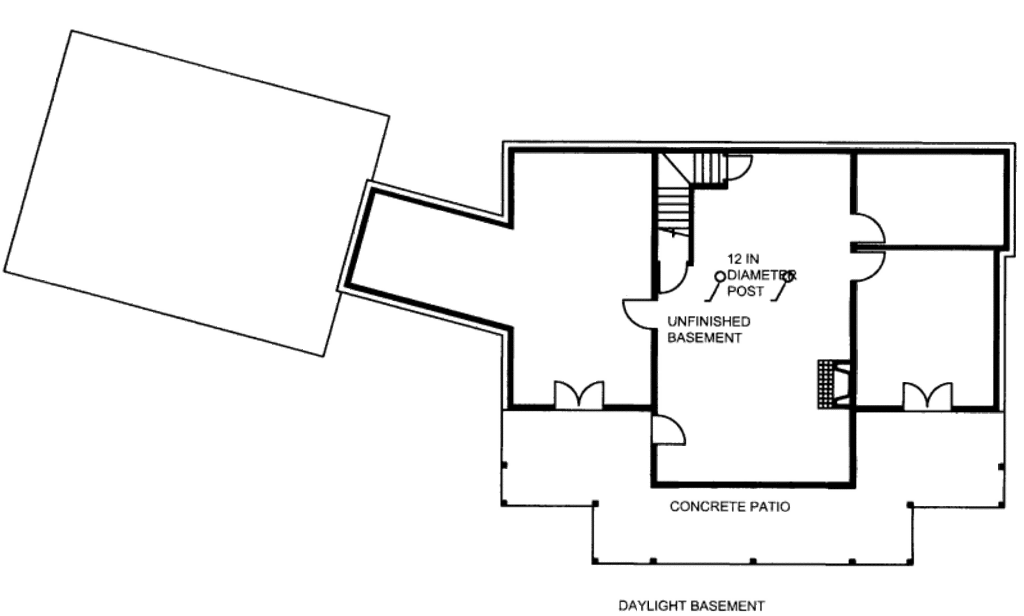door: (547, 369, 611, 416), (899, 372, 956, 418), (652, 406, 690, 453), (658, 260, 698, 298), (851, 250, 894, 280), (850, 212, 891, 242), (621, 298, 658, 331), (725, 154, 754, 183)
stairs: (655, 151, 724, 264)
